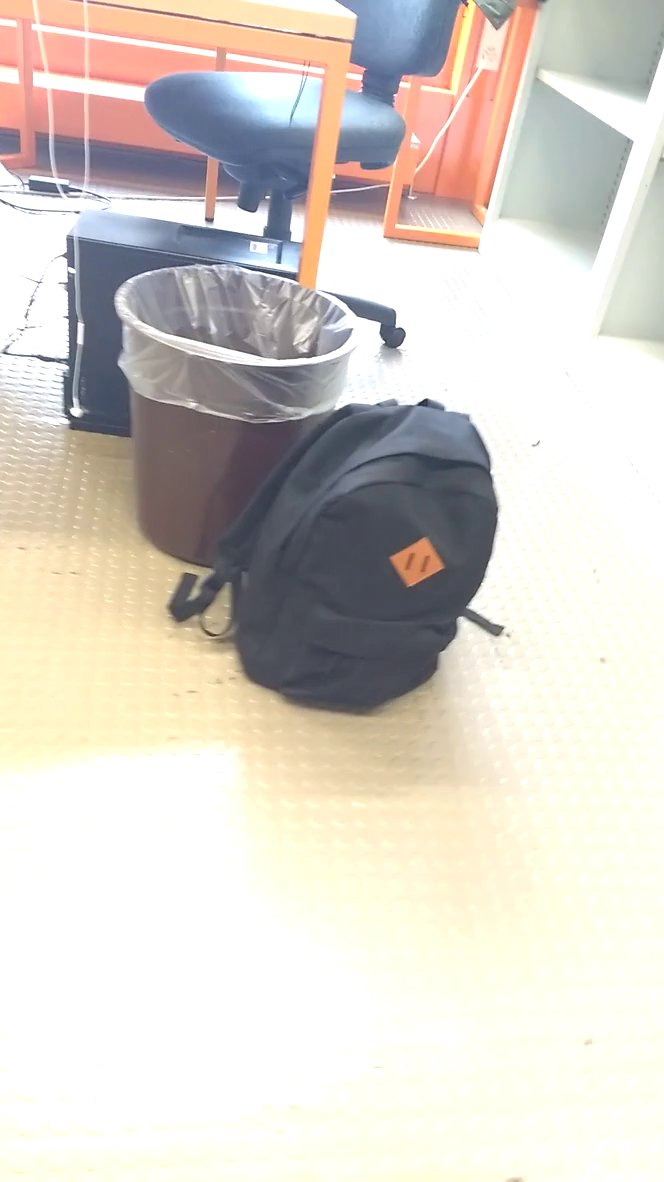bag: (163, 379, 504, 722)
bin: (109, 250, 362, 580)
chair: (140, 1, 470, 301)
